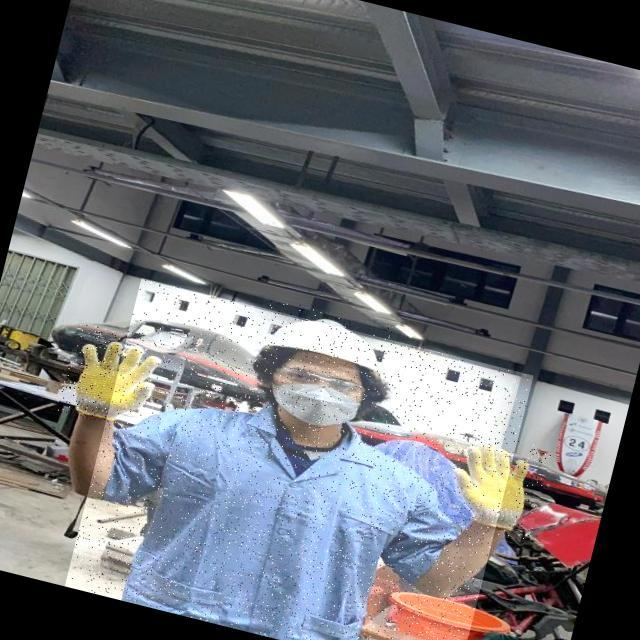Gloves: (73, 329, 166, 433), (441, 436, 537, 530)
Helmet: (251, 296, 398, 384)
Person: (56, 232, 546, 640)
no-vest: (105, 404, 468, 632)
